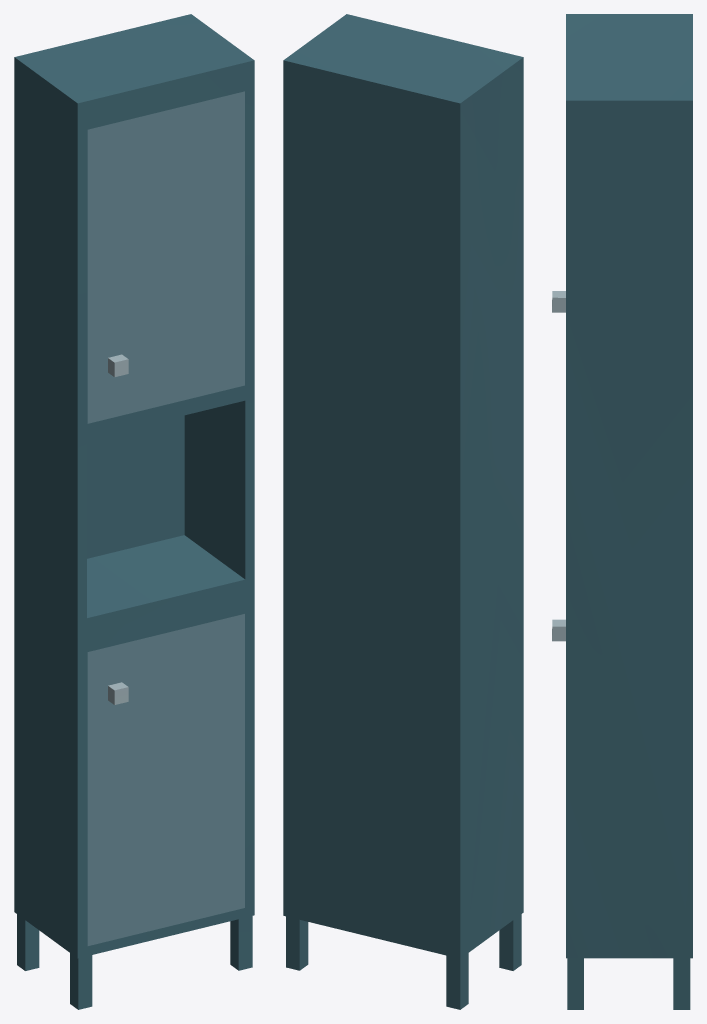
The model's file is closet_002.glb.
The picture shows the model from 3 angles, left to right: view 1: azimuth 30°, elevation 25°; view 2: azimuth 150°, elevation 25°; view 3: azimuth 270°, elevation 25°; orthographic projection.
Parts seen in each view (by area): view 1: closet_002; view 2: closet_002; view 3: closet_002.
Part boxes in pixels (left/top/right/bottom): closet_002: left=14, top=14, right=254, bottom=1009; closet_002: left=283, top=14, right=523, bottom=1009; closet_002: left=552, top=14, right=692, bottom=1009.
Size of the model in its own units: 0.3999 by 1.96 by 0.2749.
1 material, 1 textured.
